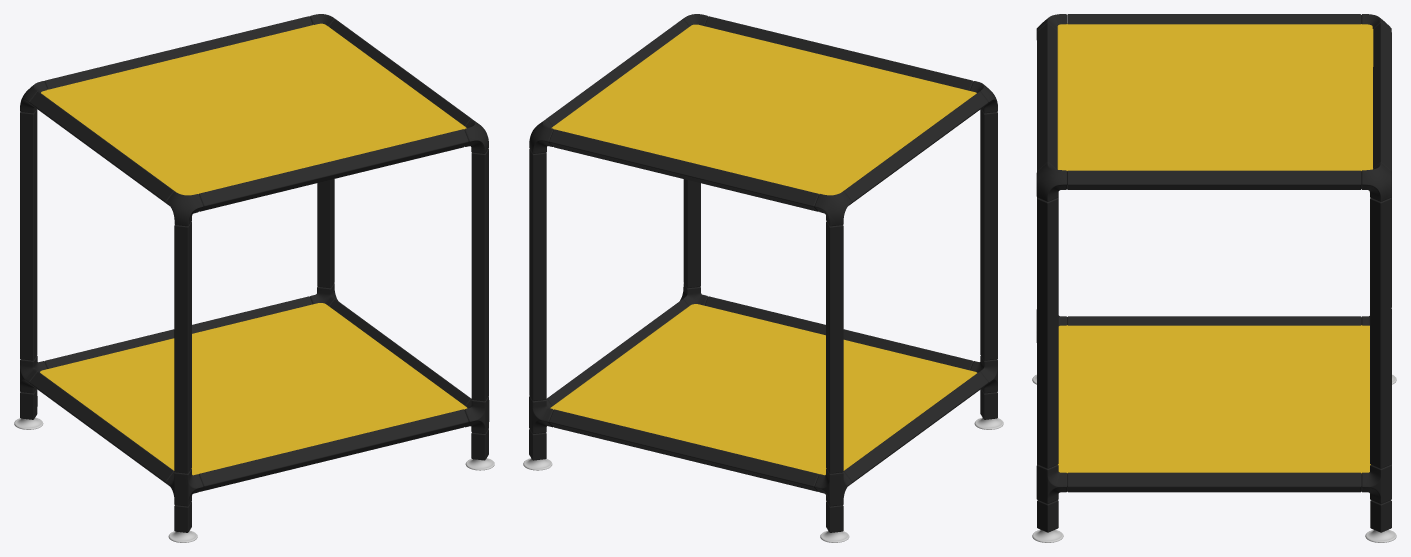
The picture shows the model from 3 angles, left to right: view 1: azimuth 30°, elevation 25°; view 2: azimuth 150°, elevation 25°; view 3: azimuth 270°, elevation 25°; orthographic projection. The views are drawn at different scales.
Visible parts, largest first — view 1: 420x374x374; view 2: 420x374x374; view 3: 420x374x374.
Boxes of the visible parts, x1,y1,x2,y2 form: 420x374x374: (14,14,494,542); 420x374x374: (523,14,1003,542); 420x374x374: (1032,14,1396,542).
Bounding box in the file's own units: 0.5099 × 0.5133 × 0.4632.
